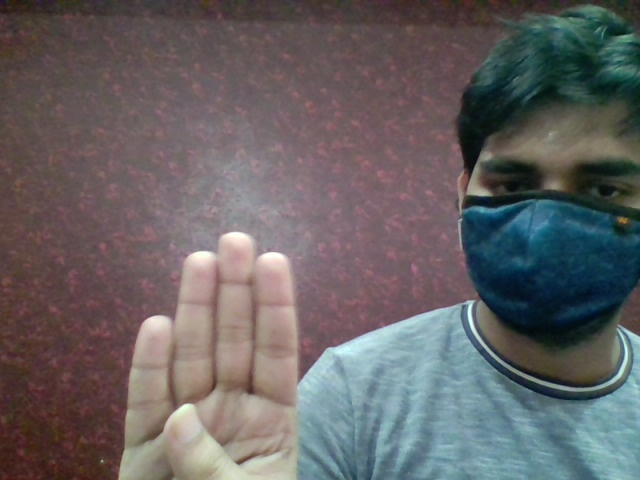b: (109, 226, 314, 480)
